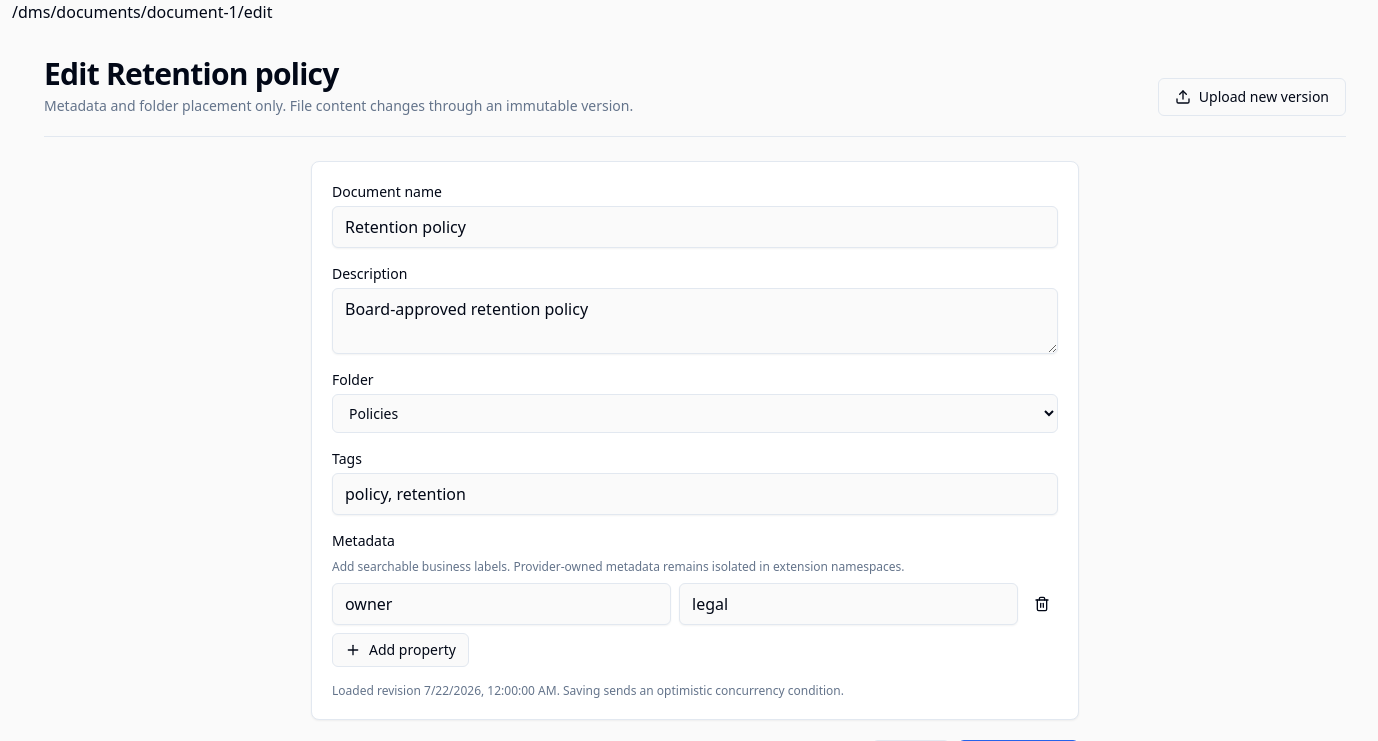
DMS document detail and edit pages › saves document metadata with optimistic revision and moves only when folder changed
The image size is (1378, 741).
Replace the text in the field labelled "Document name" with "Retention policy 2026" at (695, 227), box [332,206,1058,248]
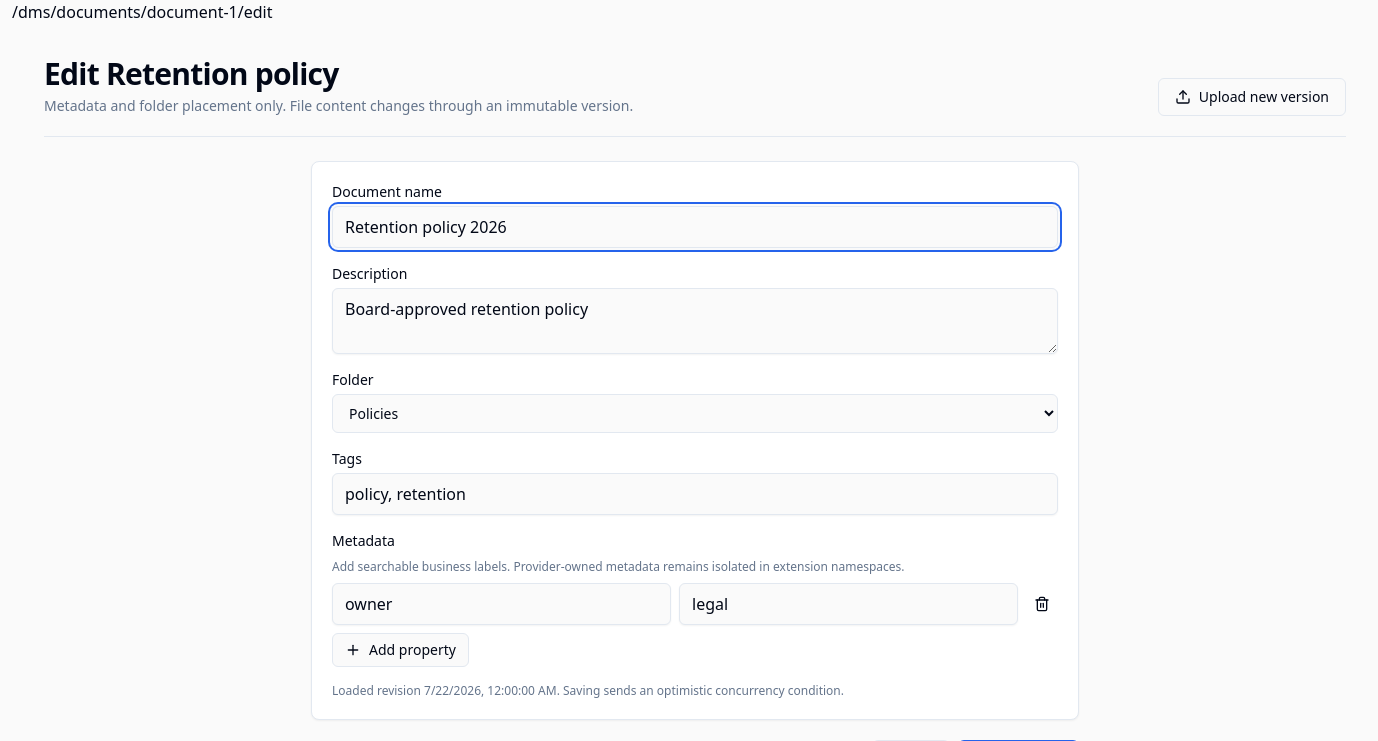
Select "Archive" in the dropdown labelled "Folder" at (695, 414), box [332,394,1058,433]
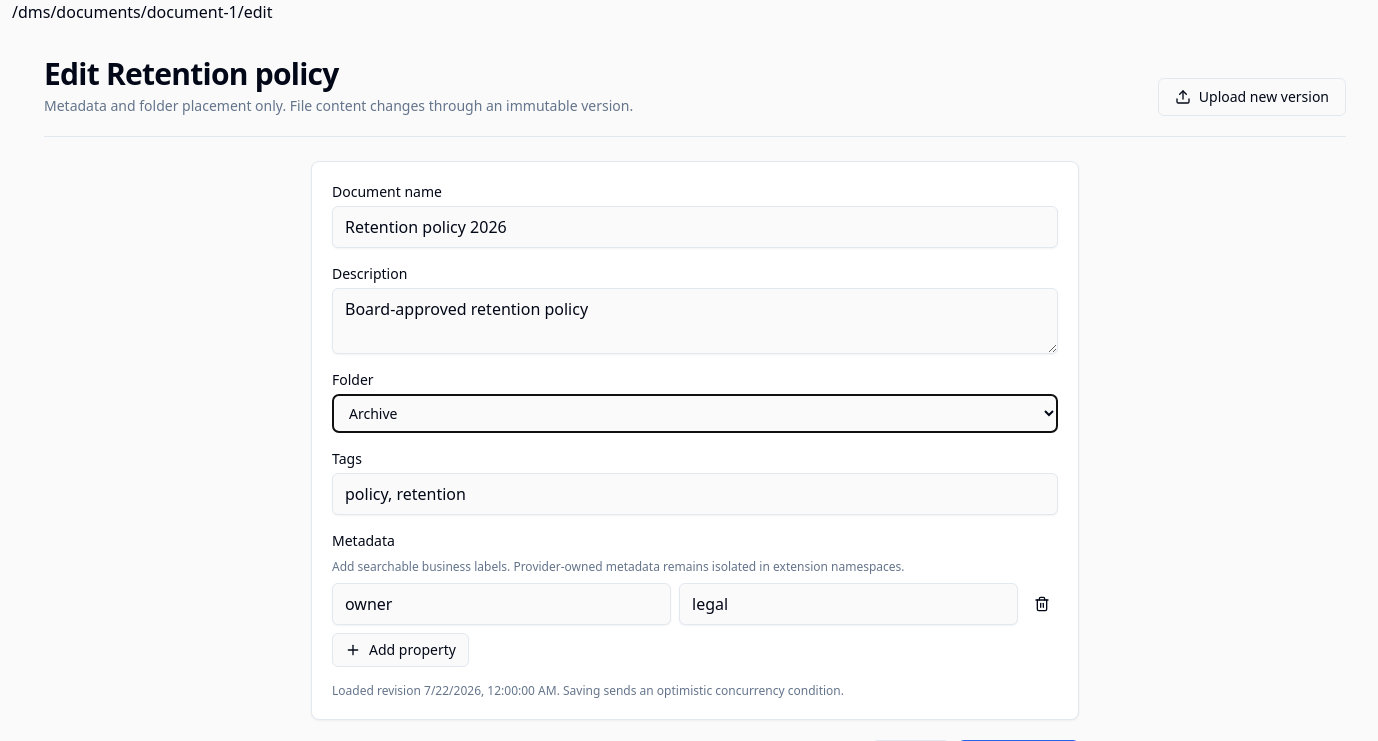
Replace the text in the field named "Metadata value 1" with "compliance" at (848, 604), box [679,583,1018,625]
(page scrolled)
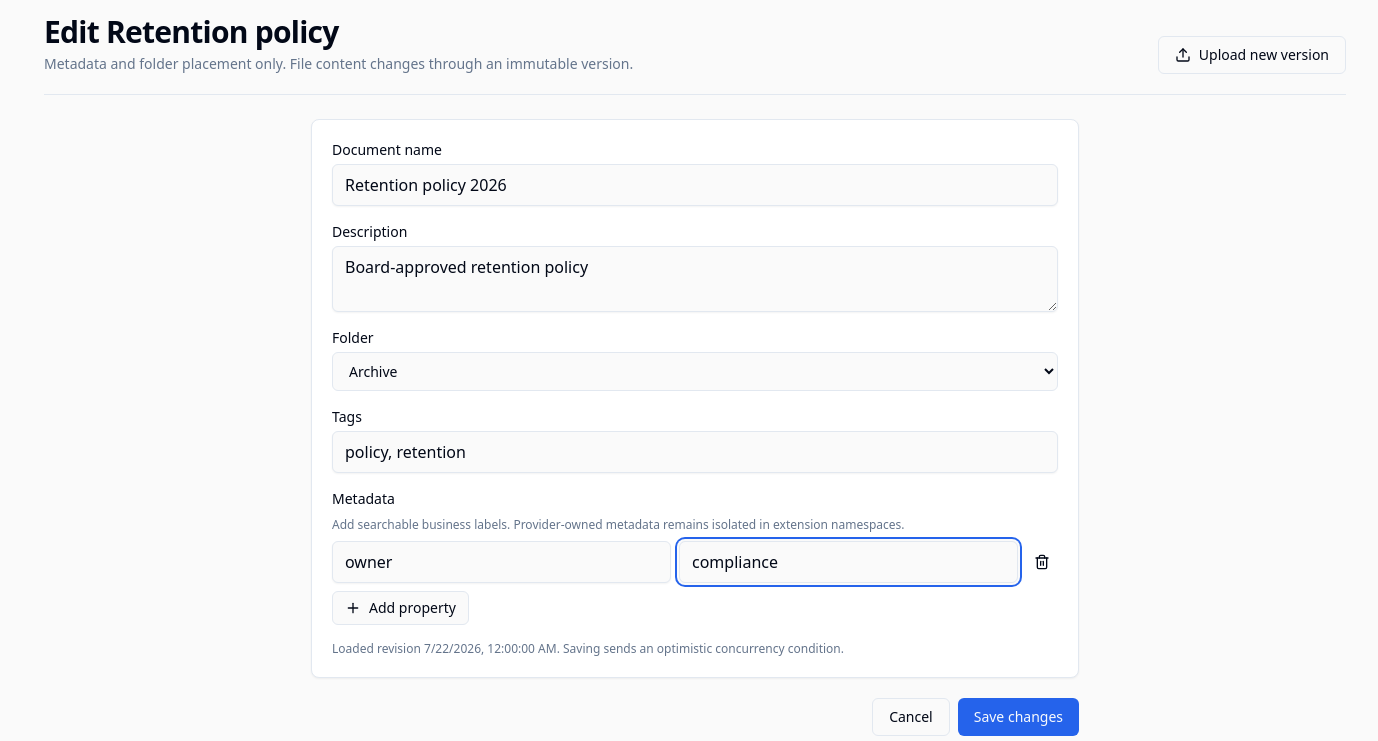
Click the button "Save changes".
click(1018, 717)  # box [958,698,1079,736]
(page scrolled)
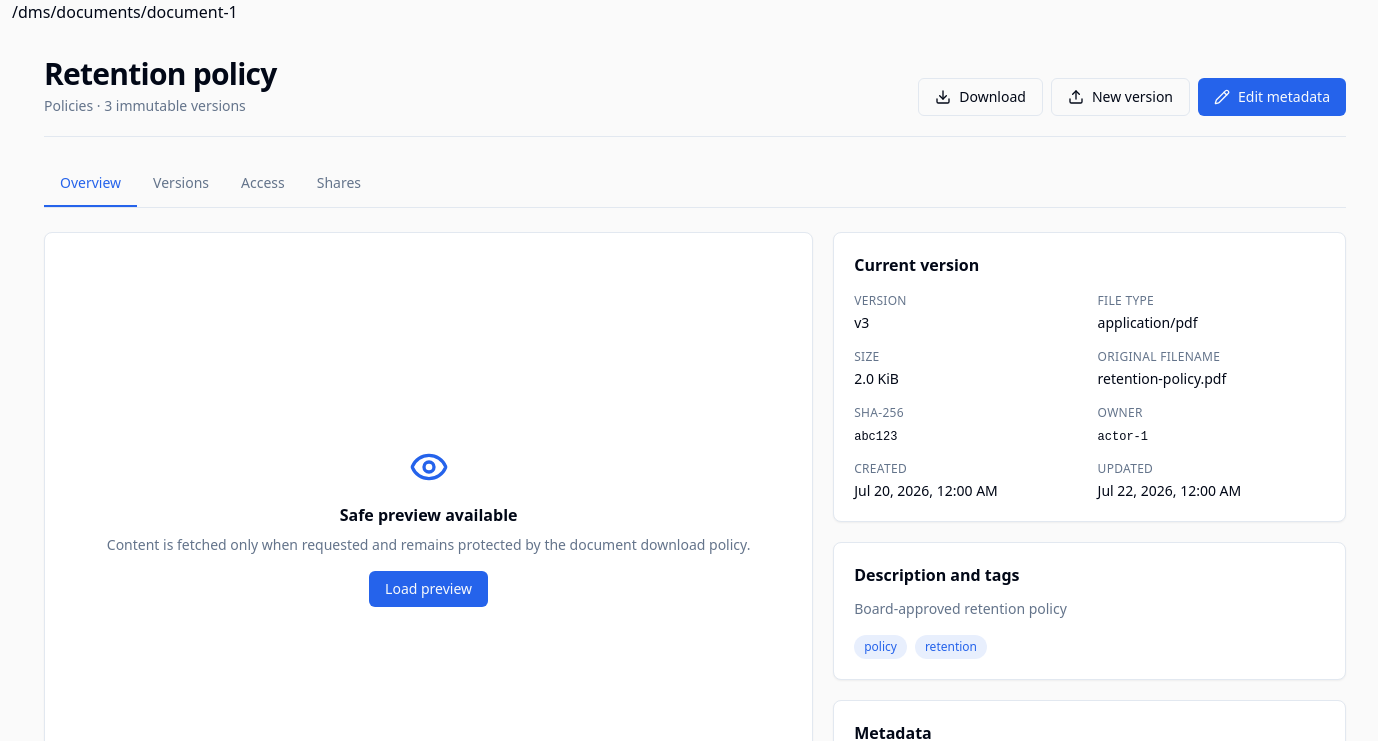
expect the text named "Current route" reads "/dms/documents/document-1": met, box [12,1,238,23]
